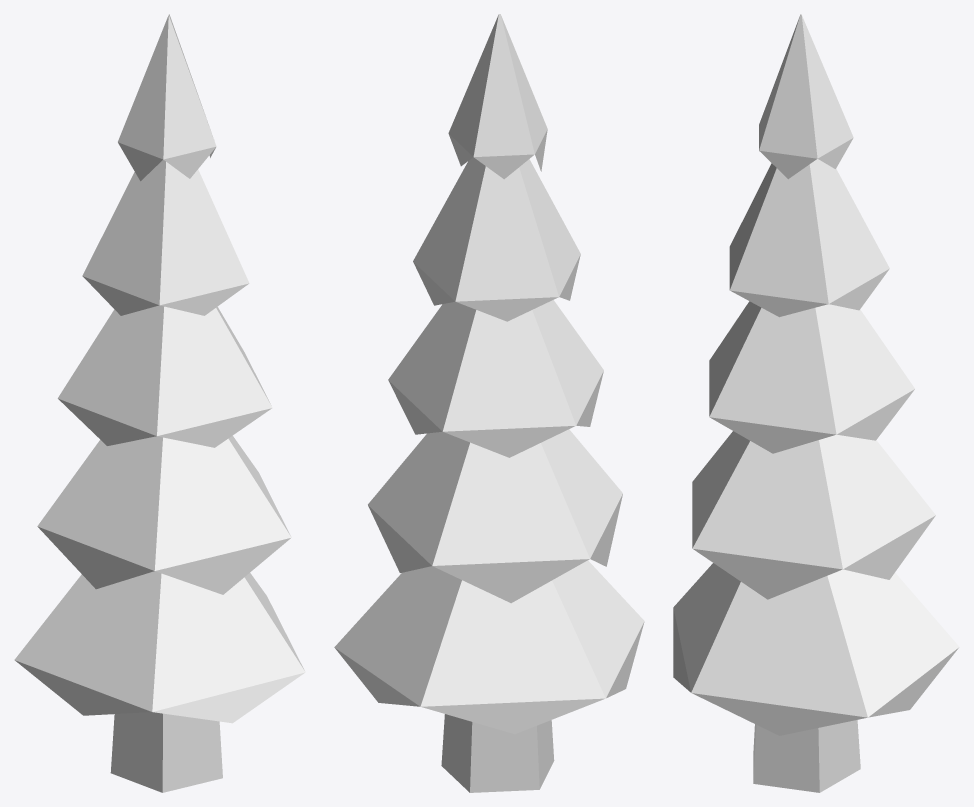
File: tree.spruce.fancy.medium.glb
The picture shows the model from 3 angles, left to right: view 1: azimuth 30°, elevation 25°; view 2: azimuth 150°, elevation 25°; view 3: azimuth 270°, elevation 25°; orthographic projection.
Parts seen in each view (by area): view 1: spruce.fancy.medium; view 2: spruce.fancy.medium; view 3: spruce.fancy.medium.
Boxes of the visible parts, box(x1,y1,x2,y2) form: spruce.fancy.medium: box(14, 14, 305, 792); spruce.fancy.medium: box(334, 14, 644, 792); spruce.fancy.medium: box(673, 14, 959, 792).
Bounding box in the file's own units: 2.19 × 6.02 × 2.07.
Materials: 1 (1 with a texture image).
